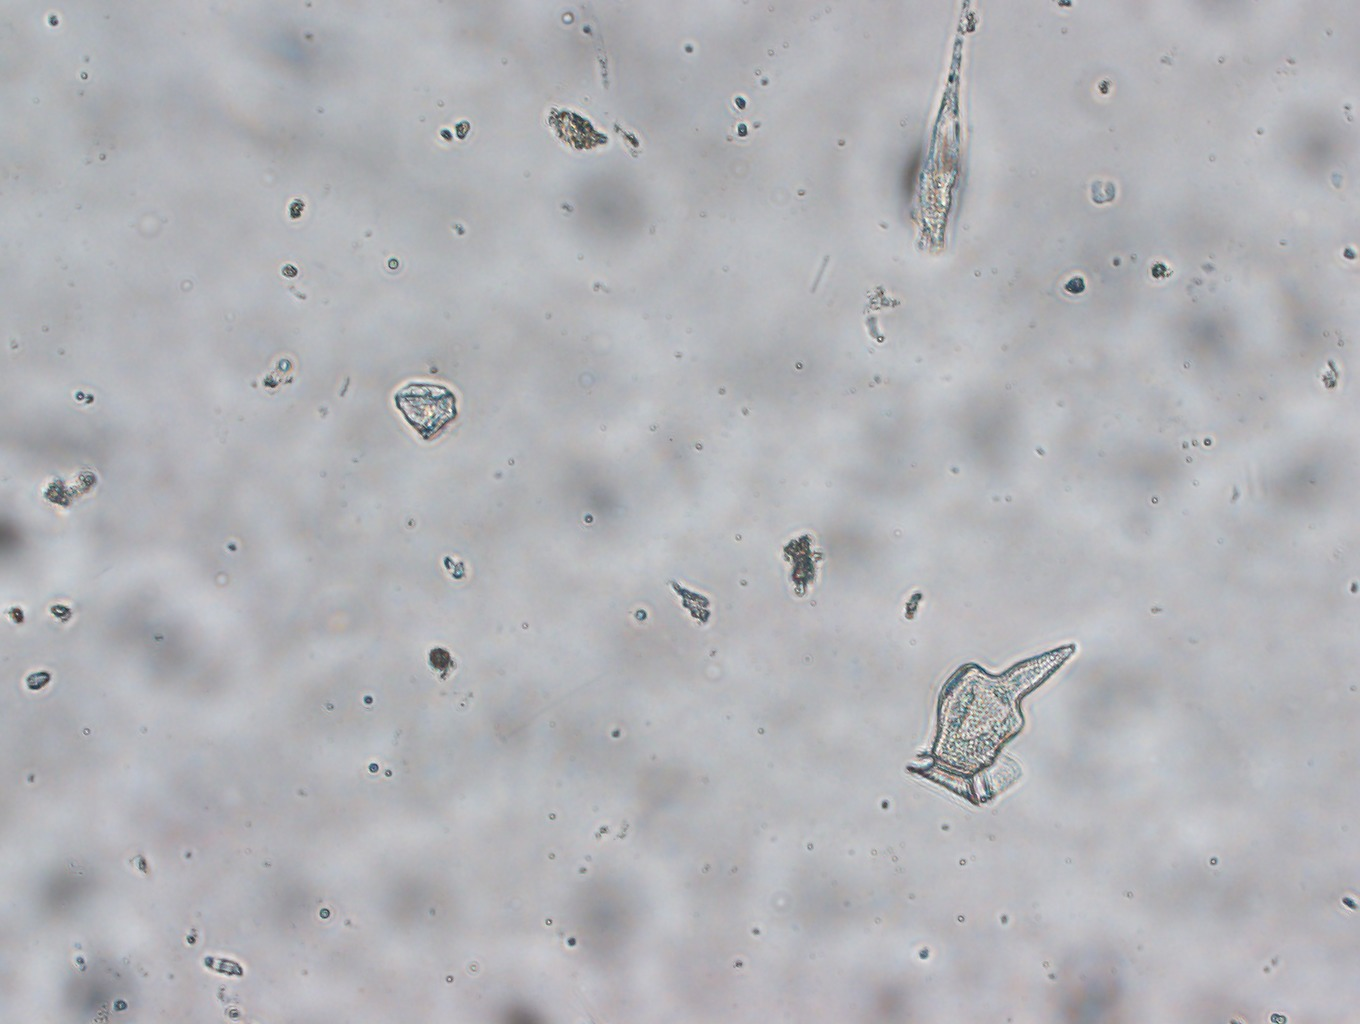dinophysis caudata: (906, 641, 1077, 809)
